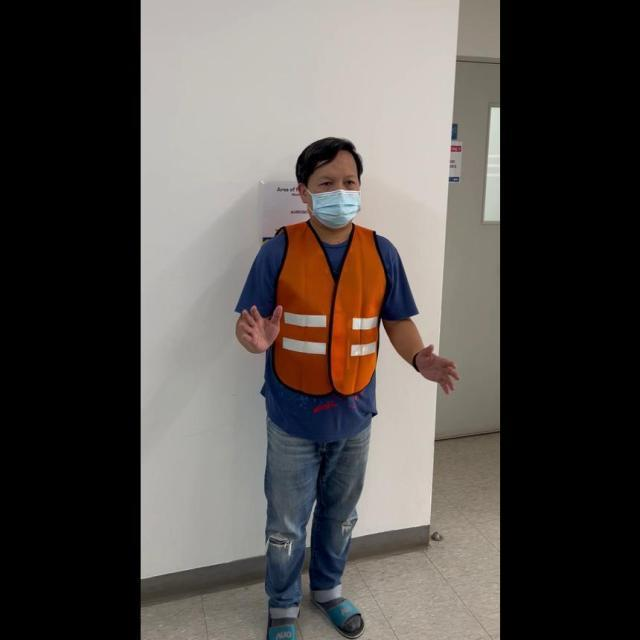bare_hand: (233, 298, 283, 353), (412, 341, 460, 396)
